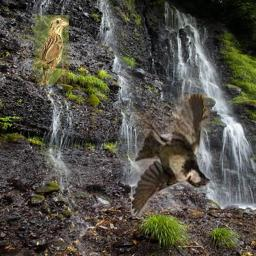Sparrow: (131, 94, 210, 216), (32, 15, 69, 85)
